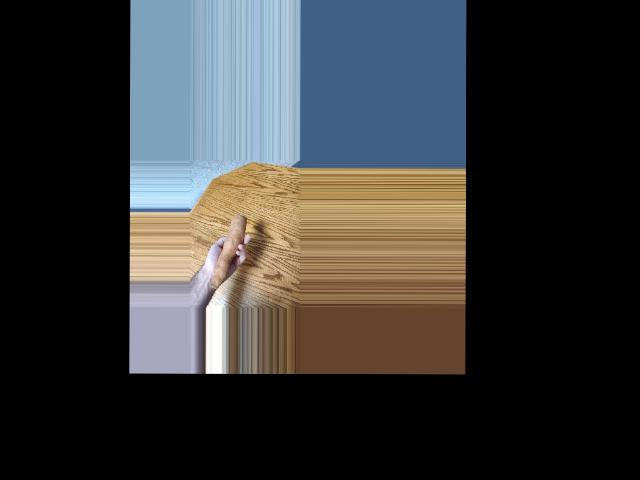sweet_potato: (209, 217, 241, 289)
